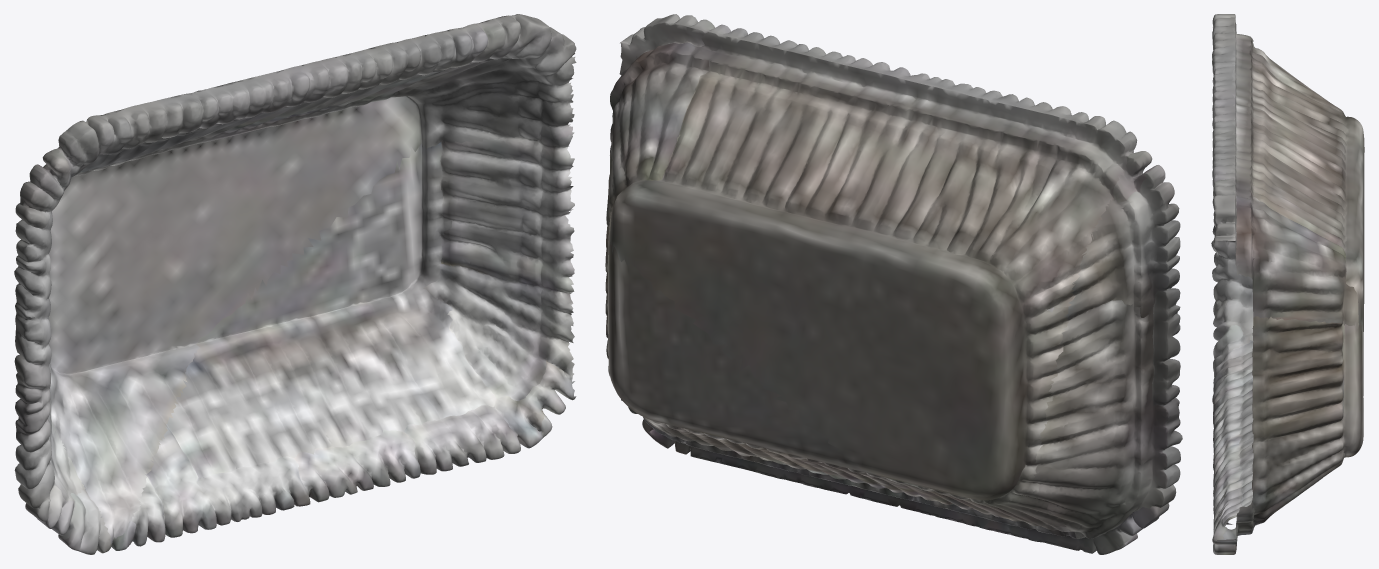
File: metall-alu-schale.glb
The picture shows the model from 3 angles, left to right: view 1: azimuth 30°, elevation 25°; view 2: azimuth 150°, elevation 25°; view 3: azimuth 270°, elevation 25°; orthographic projection. The views are drawn at different scales.
Parts seen in each view (by area): view 1: metall-alu-schale; view 2: metall-alu-schale; view 3: metall-alu-schale.
Boxes of the visible parts, bbox=[...] form: metall-alu-schale: bbox=[14, 14, 576, 554]; metall-alu-schale: bbox=[605, 14, 1182, 554]; metall-alu-schale: bbox=[1211, 14, 1364, 554].
Size of the model in its own units: 0.1278 by 0.0957 by 0.0364.
1 material, 1 textured.
